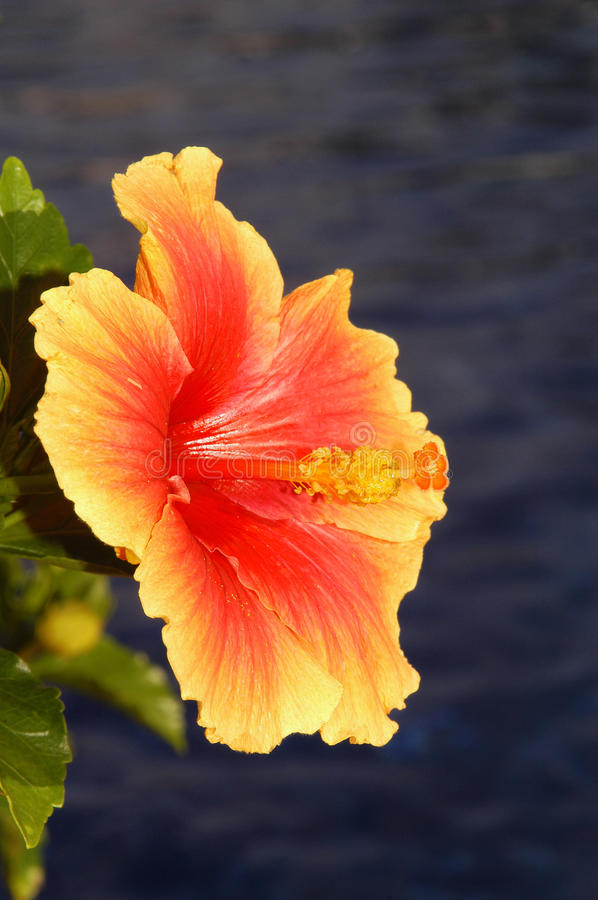Hibiscus: (31, 132, 488, 764)
